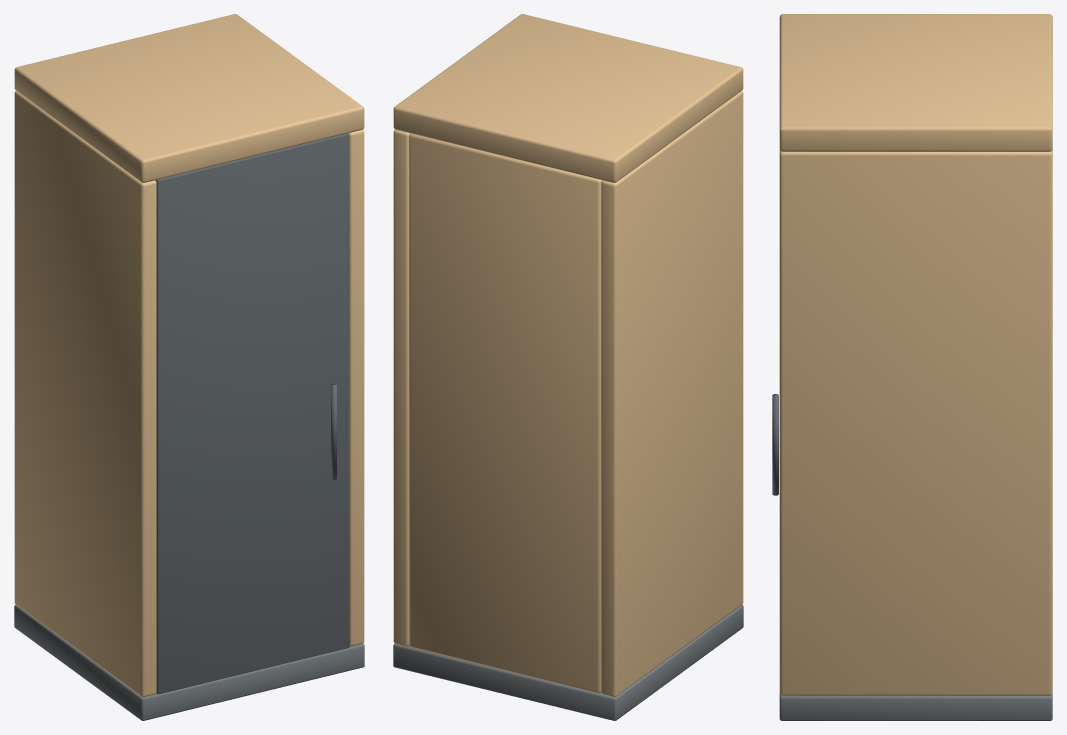
Rendered from architecture.phone-booth.glb.
The picture shows the model from 3 angles, left to right: view 1: azimuth 30°, elevation 25°; view 2: azimuth 150°, elevation 25°; view 3: azimuth 270°, elevation 25°; orthographic projection. The views are drawn at different scales.
Parts seen in each view (by area): view 1: architecture.phone-booth; view 2: architecture.phone-booth; view 3: architecture.phone-booth.
Boxes of the visible parts, left/top/right/bottom form: architecture.phone-booth: left=14, top=14, right=364, bottom=720; architecture.phone-booth: left=393, top=14, right=743, bottom=720; architecture.phone-booth: left=772, top=14, right=1052, bottom=720.
Bounding box in the file's own units: 1 × 2.4 × 1.03.
